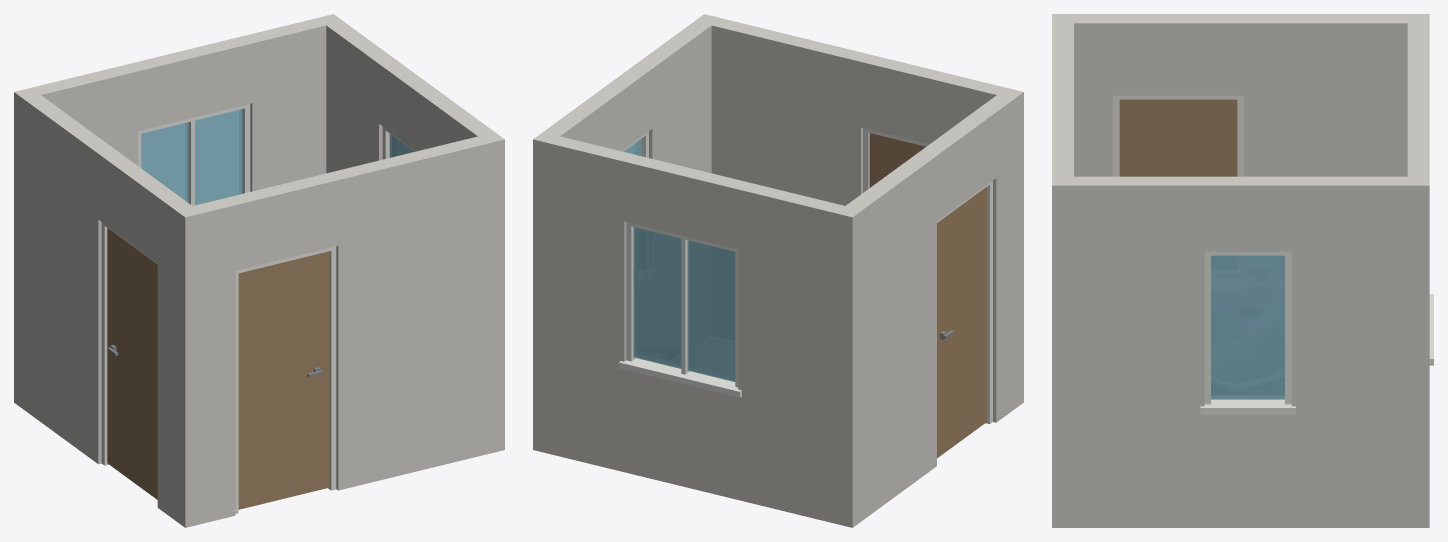
File: layoutvlm.glb
3 views of the same model, side by side, from view 1: azimuth 30°, elevation 25°; view 2: azimuth 150°, elevation 25°; view 3: azimuth 270°, elevation 25° (orthographic). The views are drawn at different scales.
Visible parts, largest first — view 1: wall|scenesmith_100__R00|0, wall|scenesmith_100__R00|2, wall|scenesmith_100__R00|1, wall|scenesmith_100__R00|0 Door 0 | wood leaf, wall|scenesmith_100__R00|3, wall|scenesmith_100__R00|2 Door 0 | wood leaf, wall|scenesmith_100__R00|1 Window 0 | glazing, wall|scenesmith_100__R00|0 Door 0 | jamb, wall|scenesmith_100__R00|1 Window 0 | jamb, wall|scenesmith_100__R00|2 Door 0 | jamb; view 2: wall|scenesmith_100__R00|1, wall|scenesmith_100__R00|2, wall|scenesmith_100__R00|0, wall|scenesmith_100__R00|3, wall|scenesmith_100__R00|1 Window 0 | glazing, wall|scenesmith_100__R00|2 Door 0 | wood leaf, wall|scenesmith_100__R00|1 Window 0 | jamb, wall|scenesmith_100__R00|0 Door 0 | wood leaf, wall|scenesmith_100__R00|2 Door 0 | jamb, wall|scenesmith_100__R00|0 Door 0 | jamb; view 3: wall|scenesmith_100__R00|3, wall|scenesmith_100__R00|2, wall|scenesmith_100__R00|1, wall|scenesmith_100__R00|0, wall|scenesmith_100__R00|3 Window 0 | glazing, wall|scenesmith_100__R00|2 Door 0 | wood leaf, wall|scenesmith_100__R00|3 Window 0 | jamb, wall|scenesmith_100__R00|2 Door 0 | jamb.
Boxes of the visible parts, <box> form: wall|scenesmith_100__R00|0: <box>175,136,487,527</box>; wall|scenesmith_100__R00|2: <box>24,95,202,527</box>; wall|scenesmith_100__R00|1: <box>14,14,341,409</box>; wall|scenesmith_100__R00|0 Door 0 | wood leaf: <box>238,251,329,509</box>; wall|scenesmith_100__R00|3: <box>317,14,504,453</box>; wall|scenesmith_100__R00|2 Door 0 | wood leaf: <box>107,228,157,499</box>; wall|scenesmith_100__R00|1 Window 0 | glazing: <box>141,109,242,205</box>; wall|scenesmith_100__R00|0 Door 0 | jamb: <box>235,246,336,513</box>; wall|scenesmith_100__R00|1 Window 0 | jamb: <box>138,104,250,205</box>; wall|scenesmith_100__R00|2 Door 0 | jamb: <box>101,222,157,465</box>; wall|scenesmith_100__R00|1: <box>533,132,862,527</box>; wall|scenesmith_100__R00|2: <box>835,88,1023,527</box>; wall|scenesmith_100__R00|0: <box>711,18,1023,409</box>; wall|scenesmith_100__R00|3: <box>533,14,720,453</box>; wall|scenesmith_100__R00|1 Window 0 | glazing: <box>633,227,735,381</box>; wall|scenesmith_100__R00|2 Door 0 | wood leaf: <box>937,187,987,458</box>; wall|scenesmith_100__R00|1 Window 0 | jamb: <box>619,222,741,397</box>; wall|scenesmith_100__R00|0 Door 0 | wood leaf: <box>869,133,925,187</box>; wall|scenesmith_100__R00|2 Door 0 | jamb: <box>937,180,992,424</box>; wall|scenesmith_100__R00|0 Door 0 | jamb: <box>863,128,928,192</box>; wall|scenesmith_100__R00|3: <box>1052,176,1429,527</box>; wall|scenesmith_100__R00|2: <box>1052,14,1407,176</box>; wall|scenesmith_100__R00|1: <box>1407,14,1429,527</box>; wall|scenesmith_100__R00|0: <box>1052,23,1073,527</box>; wall|scenesmith_100__R00|3 Window 0 | glazing: <box>1211,255,1284,399</box>; wall|scenesmith_100__R00|2 Door 0 | wood leaf: <box>1119,99,1237,176</box>; wall|scenesmith_100__R00|3 Window 0 | jamb: <box>1200,251,1295,414</box>; wall|scenesmith_100__R00|2 Door 0 | jamb: <box>1113,95,1243,176</box>.
Size of the model in its own units: 2.83 by 2.61 by 2.63.
